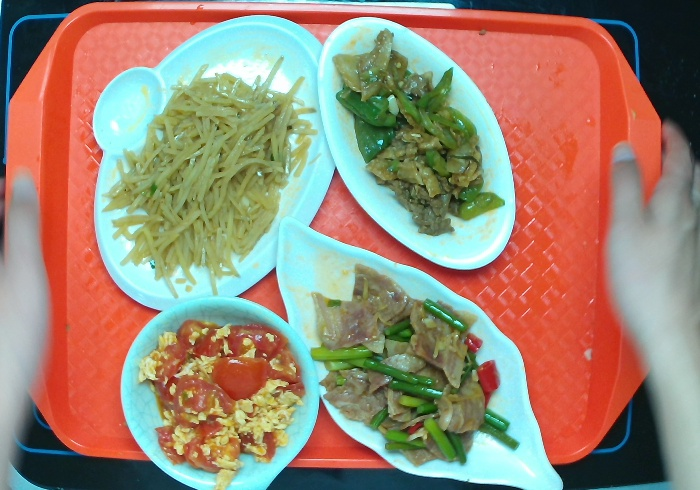RJxy-Bai_Se_Tuo_Yuan: (318, 17, 519, 273)
RJxy-Shu_Ye_Pan: (271, 216, 566, 490)
RJxy-Xiao_Jiao_Yuan_Wan: (118, 297, 317, 490)
RJxy-Zhan_Liao_Pan: (93, 11, 344, 316)
